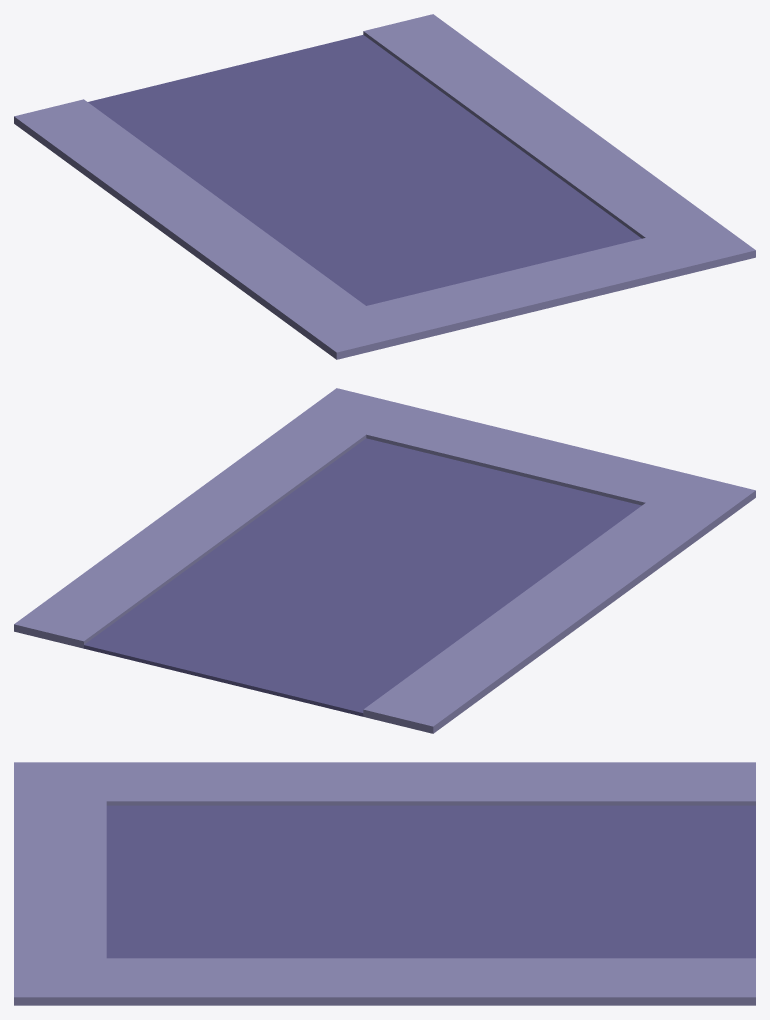
The model's file is Road_End4.fbx.
3 views of the same model, one above another, from view 1: azimuth 30°, elevation 25°; view 2: azimuth 150°, elevation 25°; view 3: azimuth 270°, elevation 25° (orthographic). The views are drawn at different scales.
Parts seen in each view (by area): view 1: mergedBlocks; view 2: mergedBlocks; view 3: mergedBlocks.
Boxes of the visible parts, <box> form: mergedBlocks: <box>14,14,755,359</box>; mergedBlocks: <box>14,388,755,733</box>; mergedBlocks: <box>14,762,755,1005</box>.
Bounding box in the file's own units: 150 × 2.5 × 200.
